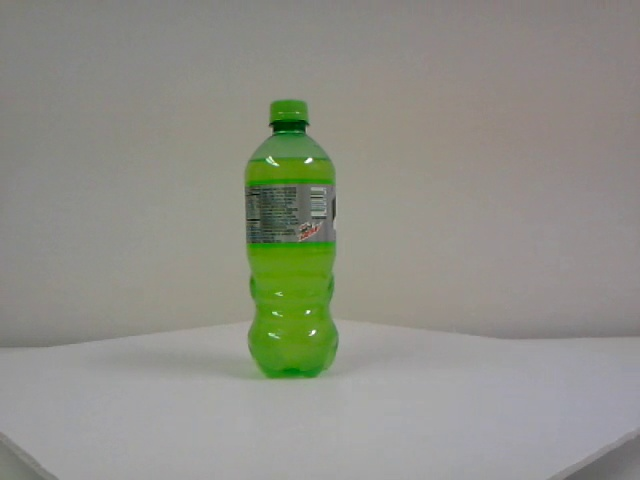botolplastik: (246, 101, 334, 376)
